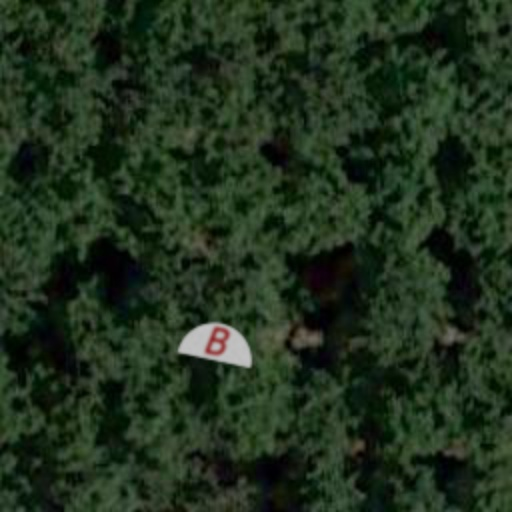semicircle: (172, 296, 264, 388)
